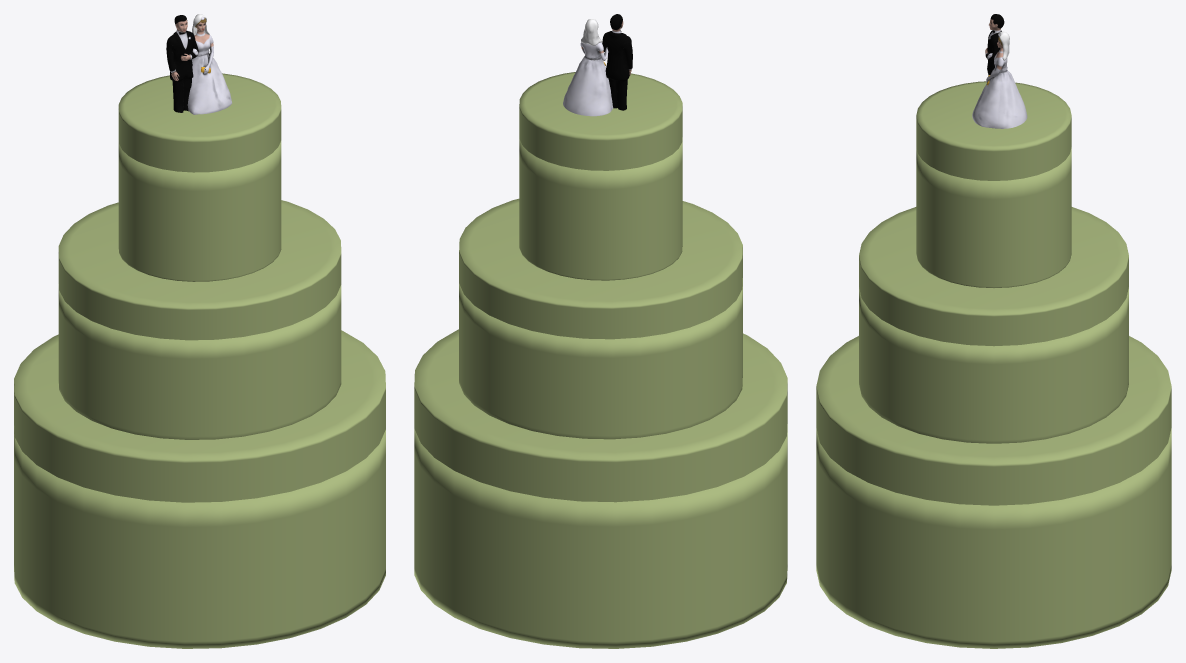
File: 3-tier-pistage-none-bridegroom.glb
3 views of the same model, side by side, from view 1: azimuth 30°, elevation 25°; view 2: azimuth 150°, elevation 25°; view 3: azimuth 270°, elevation 25° (orthographic). The views are drawn at different scales.
Visible parts, largest first — view 1: Cylinder.022, Cylinder.014, Cylinder.021, 13501_Cake_Topper_Bride_Groom_v1_L1.002; view 2: Cylinder.022, Cylinder.014, Cylinder.021, 13501_Cake_Topper_Bride_Groom_v1_L1.002; view 3: Cylinder.022, Cylinder.014, Cylinder.021, 13501_Cake_Topper_Bride_Groom_v1_L1.002.
Boxes of the visible parts, left/top/right/bottom form: Cylinder.022: left=14, top=330, right=385, bottom=648; Cylinder.014: left=58, top=200, right=341, bottom=439; Cylinder.021: left=118, top=73, right=281, bottom=281; 13501_Cake_Topper_Bride_Groom_v1_L1.002: left=166, top=14, right=232, bottom=114; Cylinder.022: left=414, top=329, right=787, bottom=648; Cylinder.014: left=459, top=198, right=742, bottom=439; Cylinder.021: left=519, top=72, right=682, bottom=280; 13501_Cake_Topper_Bride_Groom_v1_L1.002: left=563, top=14, right=632, bottom=116; Cylinder.022: left=816, top=336, right=1171, bottom=648; Cylinder.014: left=859, top=207, right=1128, bottom=443; Cylinder.021: left=916, top=81, right=1071, bottom=287; 13501_Cake_Topper_Bride_Groom_v1_L1.002: left=972, top=14, right=1027, bottom=128.
Size of the model in its own units: 4.22 by 6.91 by 4.06.
2 materials, 1 textured.
